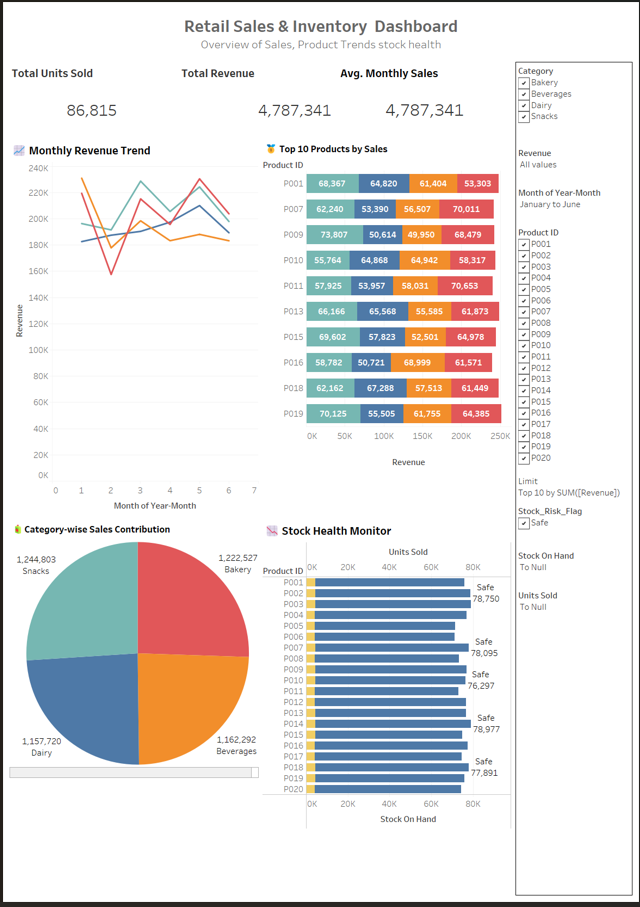

What the dashboard file says about the page in this screenshot:
{"tool":"tableau","page":{"name":"Dashboard 1","canvas":[1169,1654],"ordinal":0},"visuals":[{"type":"text","box":[8,8,1153,98]},{"type":"worksheet","title":"TUS","mark":"Automatic","box":[8,106,311.9,142]},{"type":"worksheet","title":"TR","mark":"Automatic","box":[319.9,106,291.8,142]},{"type":"worksheet","title":"AMS","mark":"Automatic","box":[611.7,106,326.3,142]},{"type":"filter","title":" CSC","param":"[federated.0sfkrt00dx7bod0zm3ai40bfuf60].[none:Category:nk]","box":[943,111,213,151]},{"type":"worksheet","title":"MRT","mark":"Line","rows":["Revenue"],"cols":["Calculation_1717278869008527361"],"box":[8,248,464.9,699]},{"type":"worksheet","title":"Top 10","mark":"Automatic","rows":["Product_ID"],"cols":["Revenue"],"box":[472.9,248,465.1,699]},{"type":"filter","title":" CSC","param":"[federated.0sfkrt00dx7bod0zm3ai40bfuf60].[sum:Revenue:qk]","box":[943,262,213,73]},{"type":"filter","title":"MRT","param":"[federated.0sfkrt00dx7bod0zm3ai40bfuf60].[mn:Calculation_1717278869008527361:qk]","box":[943,335,213,73]},{"type":"filter","title":"Top 10","param":"[federated.0sfkrt00dx7bod0zm3ai40bfuf60].[none:Product_ID:nk]","box":[943,408,213,512]},{"type":"filter","title":"SHM","param":"[federated.0sfkrt00dx7bod0zm3ai40bfuf60].[none:Calculation_1717278869019435012:n","box":[943,920,213,82]},{"type":"worksheet","title":" CSC","mark":"Pie","box":[8,947,464.9,699]},{"type":"worksheet","title":"SHM","mark":"Bar","rows":["Product_ID"],"cols":["Stock_On_Hand","Units_Sold"],"box":[472.9,947,465.1,699]},{"type":"filter","title":"SHM","param":"[federated.0sfkrt00dx7bod0zm3ai40bfuf60].[sum:Stock_On_Hand:qk]","box":[943,1002,213,73]},{"type":"filter","title":"SHM","param":"[federated.0sfkrt00dx7bod0zm3ai40bfuf60].[sum:Units_Sold:qk]","box":[943,1075.1,213,73]}]}

Visuals, with their boxes in screenshot pixels (x1, y1, x2, y2), scaled from the page's 1169x1654 canvas onto the 640x907 screenshot:
text: [4, 4, 636, 58]
"TUS" worksheet: [4, 58, 175, 136]
"TR" worksheet: [175, 58, 335, 136]
"AMS" worksheet: [335, 58, 514, 136]
" CSC" filter: [516, 61, 633, 144]
"MRT" worksheet (Line marks): [4, 136, 259, 519]
"Top 10" worksheet: [259, 136, 514, 519]
" CSC" filter: [516, 144, 633, 184]
"MRT" filter: [516, 184, 633, 224]
"Top 10" filter: [516, 224, 633, 504]
"SHM" filter: [516, 504, 633, 549]
" CSC" worksheet (Pie marks): [4, 519, 259, 903]
"SHM" worksheet (Bar marks): [259, 519, 514, 903]
"SHM" filter: [516, 549, 633, 589]
"SHM" filter: [516, 590, 633, 630]
